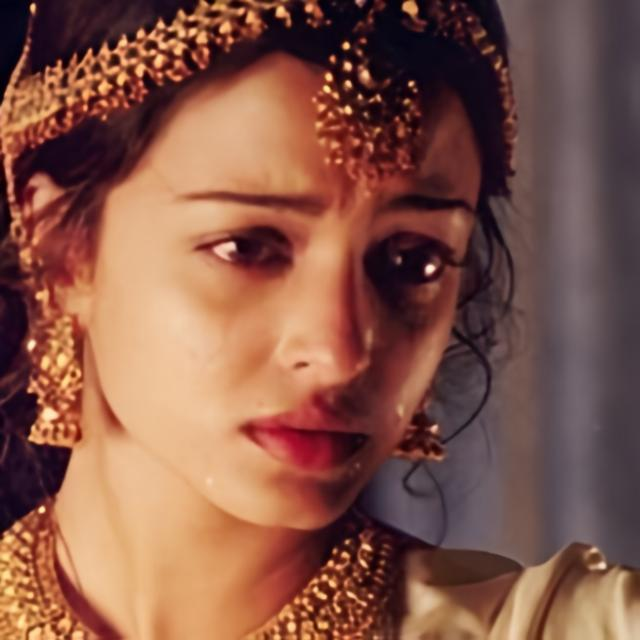sad: (92, 44, 485, 534)
